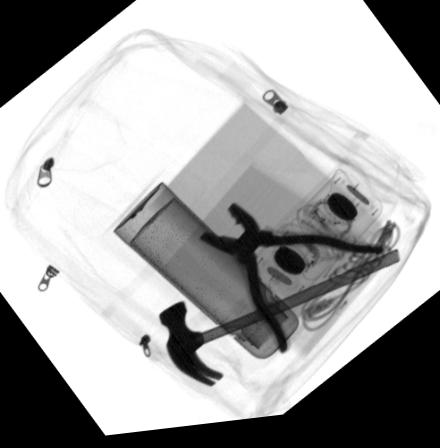Hammer: (157, 258, 401, 391)
Pliers: (197, 207, 381, 361)
